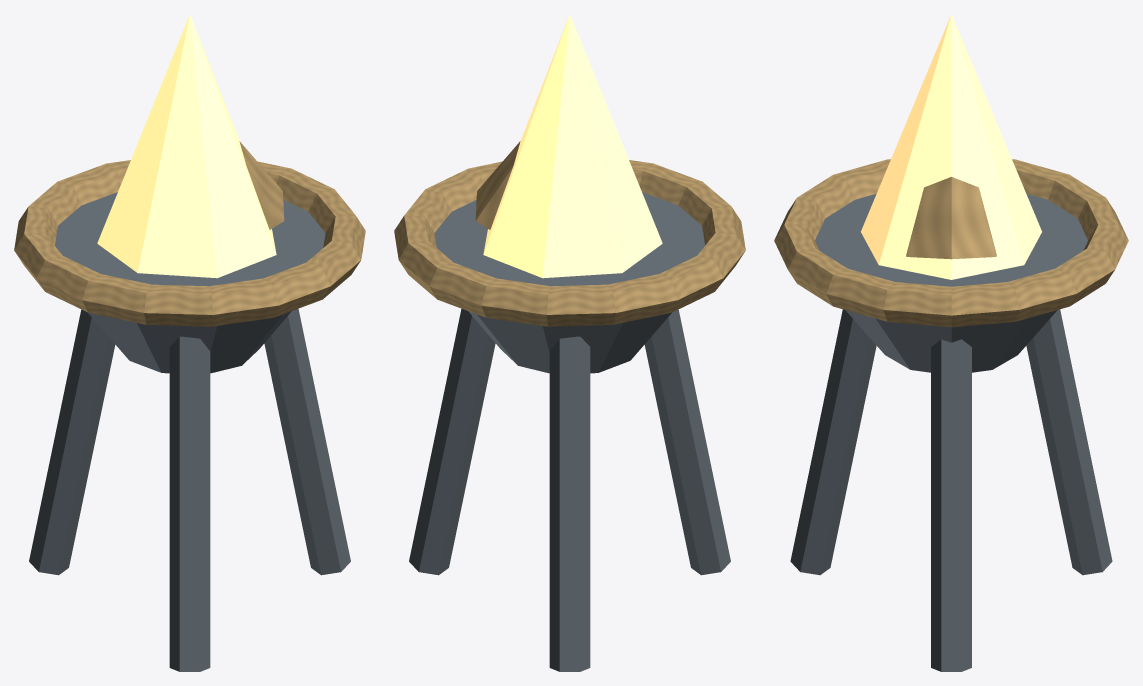
The model's file is lantern-watch-courtyard-flame-brazier.glb.
The picture shows the model from 3 angles, left to right: view 1: azimuth 30°, elevation 25°; view 2: azimuth 150°, elevation 25°; view 3: azimuth 270°, elevation 25°; orthographic projection.
Visible parts, largest first — view 1: lantern-watch-brazier; view 2: lantern-watch-brazier; view 3: lantern-watch-brazier.
Part boxes in pixels (box(x1,y1,x2,y2)): lantern-watch-brazier: box(14, 14, 365, 671); lantern-watch-brazier: box(394, 14, 745, 671); lantern-watch-brazier: box(774, 14, 1128, 671).
Size of the model in its own units: 0.6147 by 1.12 by 0.61.
Materials: 4 (2 with a texture image).
